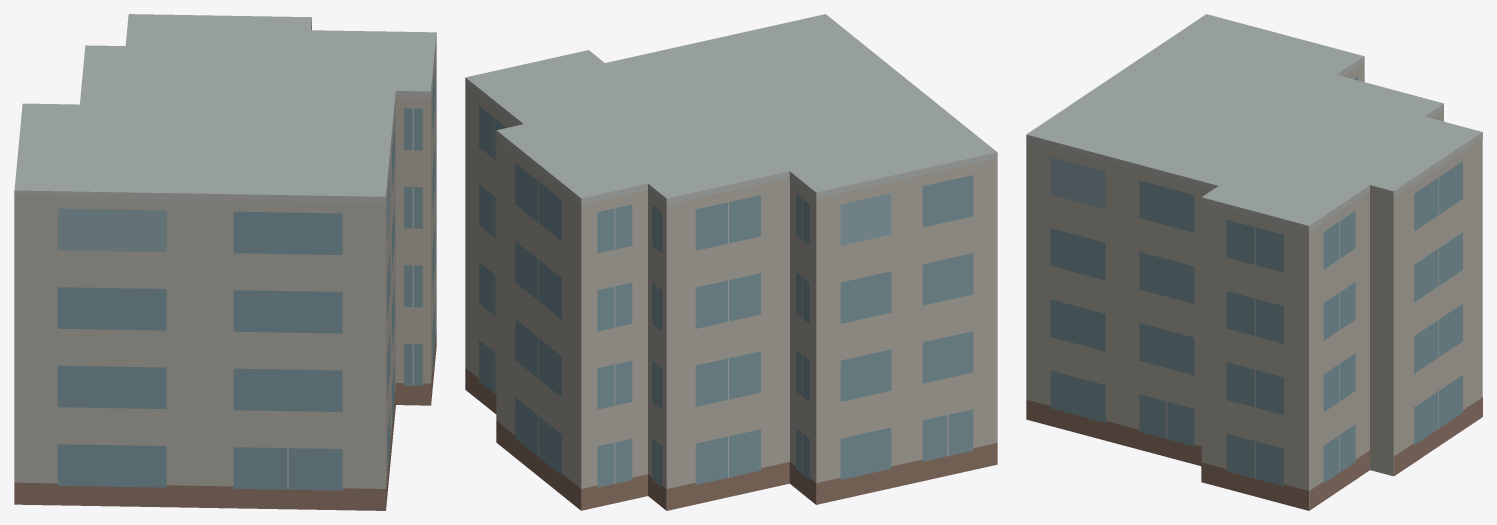
The model's file is residential-57047fa8-c3eb-4f77-a3e1-0a91669d4d2f.glb.
The picture shows the model from 3 angles, left to right: view 1: azimuth 30°, elevation 25°; view 2: azimuth 150°, elevation 25°; view 3: azimuth 270°, elevation 25°; orthographic projection. The views are drawn at different scales.
Visible parts, largest first — view 1: residential-57047fa8-c3eb-4f77-a3e1-0a91669d4d2f.tmp; view 2: residential-57047fa8-c3eb-4f77-a3e1-0a91669d4d2f.tmp; view 3: residential-57047fa8-c3eb-4f77-a3e1-0a91669d4d2f.tmp.
Part boxes in pixels (x1,y1,x2,y2): residential-57047fa8-c3eb-4f77-a3e1-0a91669d4d2f.tmp: (14, 14, 436, 510); residential-57047fa8-c3eb-4f77-a3e1-0a91669d4d2f.tmp: (465, 14, 997, 510); residential-57047fa8-c3eb-4f77-a3e1-0a91669d4d2f.tmp: (1026, 14, 1482, 510).
Bounding box in the file's own units: 19.47 × 12.2 × 17.72.
